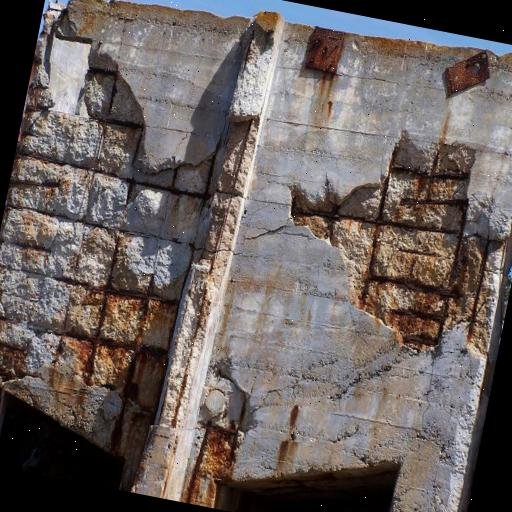spalling: (0, 51, 226, 423), (287, 134, 512, 363), (176, 360, 257, 505)
